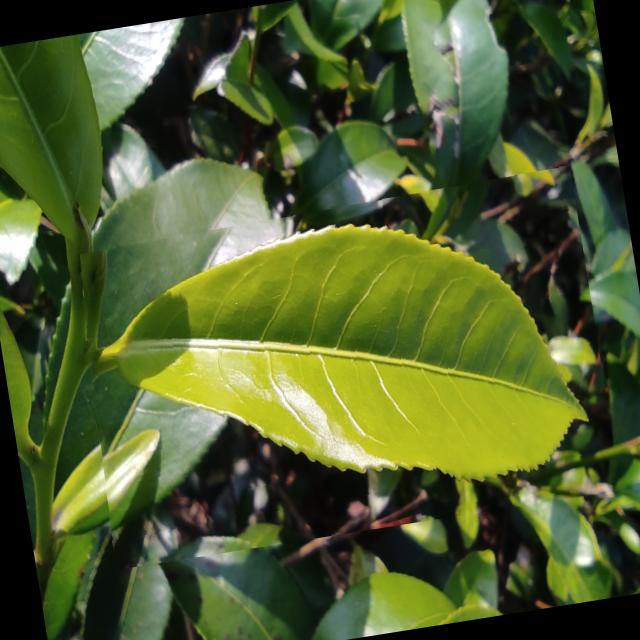Category B(2-4 days): (63, 165, 620, 570)
